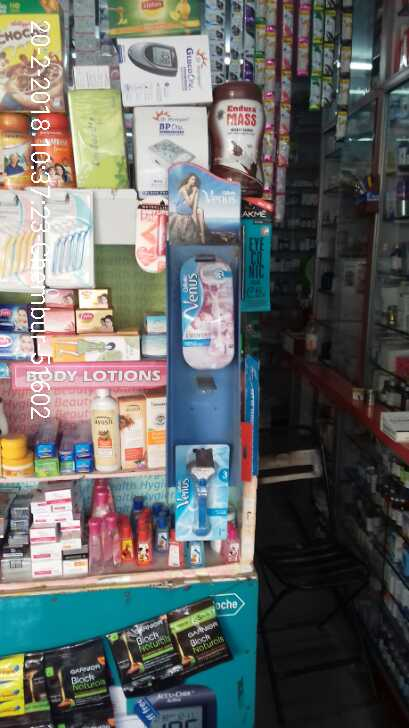venus: (177, 261, 237, 374), (166, 447, 227, 541)
